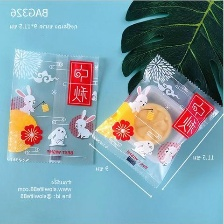snack: (87, 47, 223, 192), (0, 42, 107, 170)
